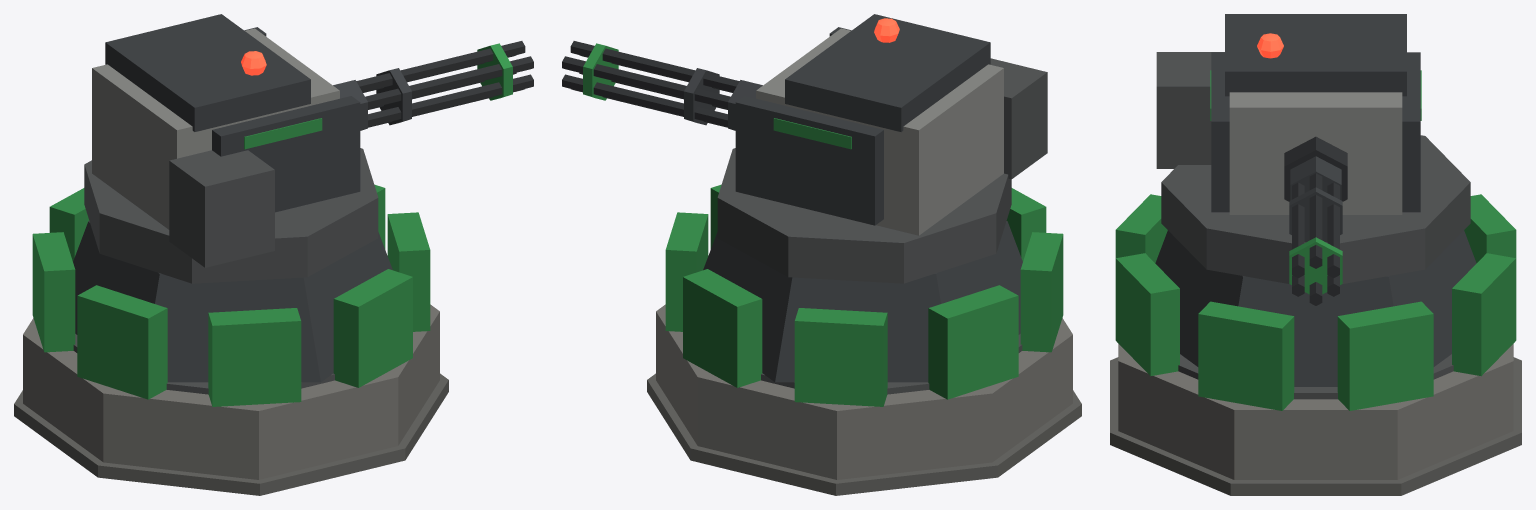
The model's file is gatling_lod1.glb.
The picture shows the model from 3 angles, left to right: view 1: azimuth 30°, elevation 25°; view 2: azimuth 150°, elevation 25°; view 3: azimuth 270°, elevation 25°; orthographic projection.
Parts seen in each view (by area): view 1: Gatling_LOD1_head, Gatling_LOD1_Foundation, Gatling_LOD1_Details, Gatling_LOD1_Frame, Gatling_LOD1_gat; view 2: Gatling_LOD1_head, Gatling_LOD1_Foundation, Gatling_LOD1_Details, Gatling_LOD1_Frame, Gatling_LOD1_gat; view 3: Gatling_LOD1_head, Gatling_LOD1_Foundation, Gatling_LOD1_Details, Gatling_LOD1_Frame, Gatling_LOD1_gat.
Boxes of the visible parts, left/top/right/bottom form: Gatling_LOD1_head: left=92, top=14, right=360, bottom=267; Gatling_LOD1_Foundation: left=14, top=304, right=448, bottom=495; Gatling_LOD1_Details: left=32, top=184, right=430, bottom=406; Gatling_LOD1_Frame: left=73, top=148, right=392, bottom=382; Gatling_LOD1_gat: left=333, top=41, right=533, bottom=130; Gatling_LOD1_head: left=735, top=14, right=1047, bottom=235; Gatling_LOD1_Foundation: left=647, top=304, right=1081, bottom=495; Gatling_LOD1_Details: left=665, top=184, right=1063, bottom=406; Gatling_LOD1_Frame: left=703, top=148, right=1022, bottom=382; Gatling_LOD1_gat: left=562, top=41, right=762, bottom=130; Gatling_LOD1_head: left=1156, top=14, right=1421, bottom=214; Gatling_LOD1_Foundation: left=1110, top=344, right=1521, bottom=495; Gatling_LOD1_Details: left=1115, top=194, right=1516, bottom=410; Gatling_LOD1_Frame: left=1155, top=135, right=1476, bottom=386; Gatling_LOD1_gat: left=1289, top=156, right=1342, bottom=305.
Bounding box in the file's own units: 1.2 × 0.91 × 0.9054.
